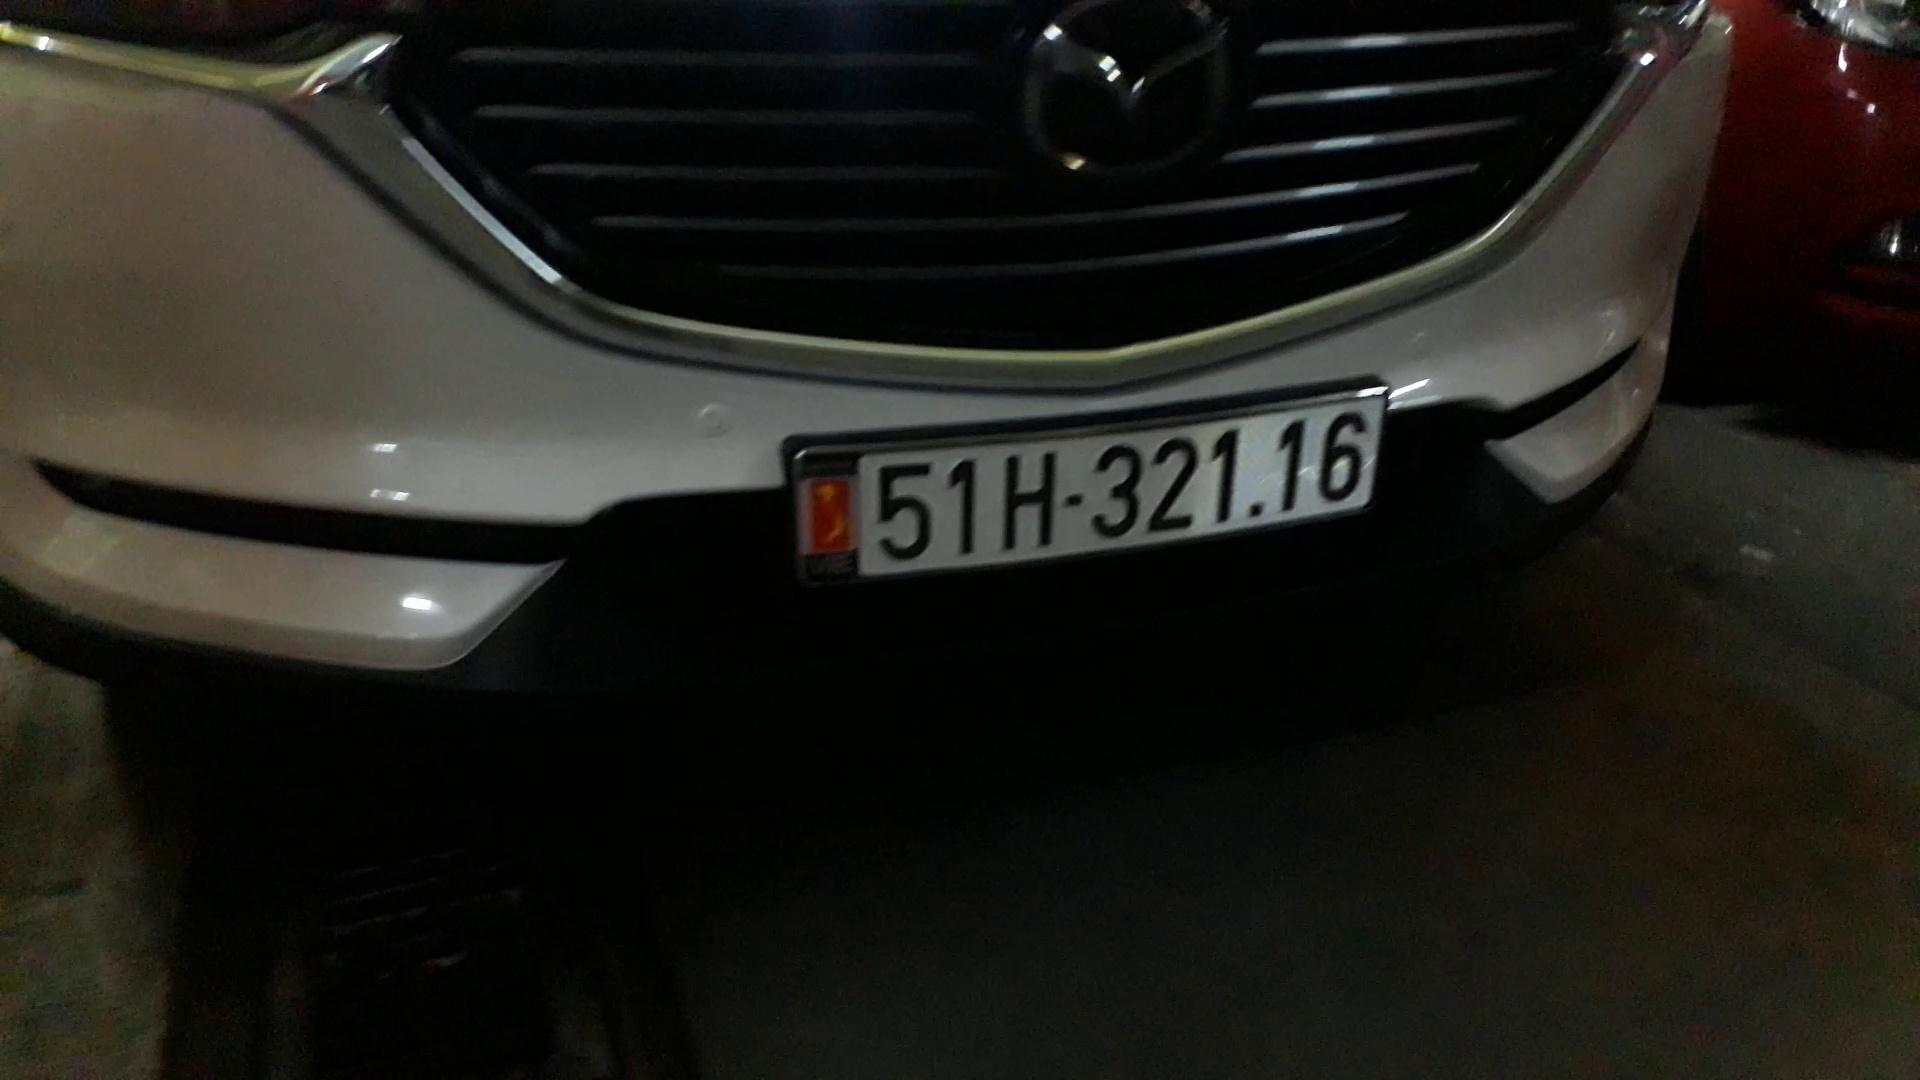numplate: (807, 387, 1440, 583)
